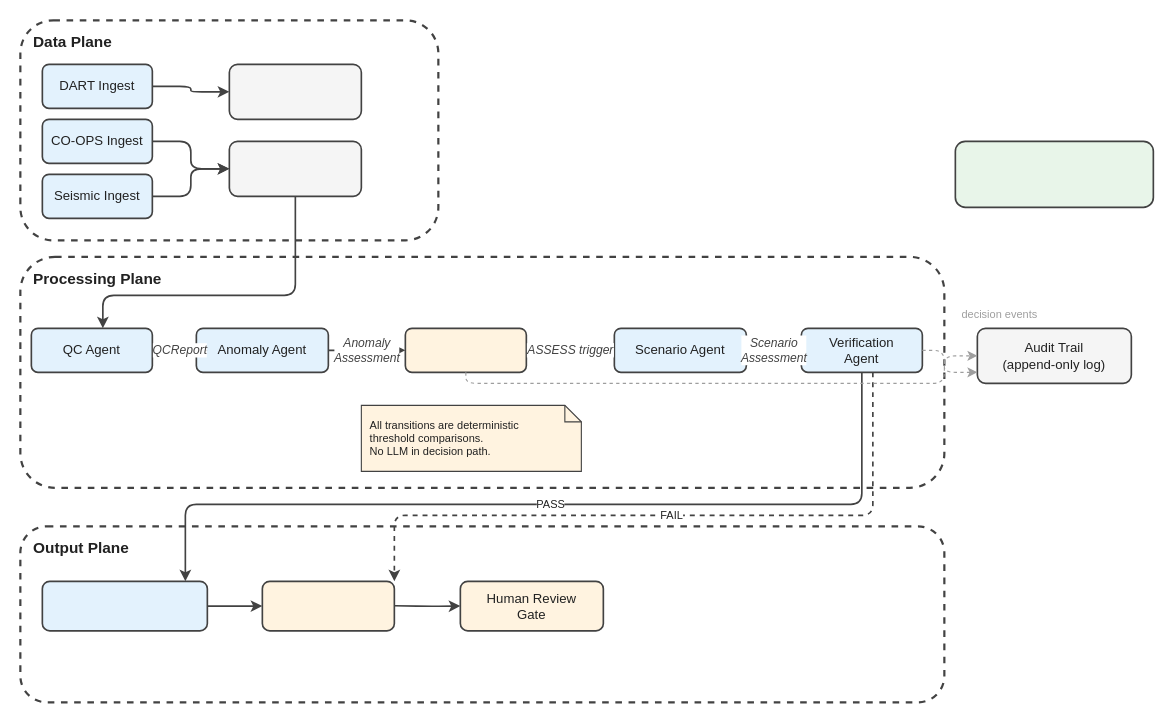
The diagram is 1173 pixels wide and 722 high, and some of its shapes have lost their labels. The shapes that lost their labels are listed below. From the top down, each one's centre as x and y in pixels, then its label:
At point 295,91: "Storage (TimescaleDB / in-memory)".
At point 295,168: "Message Bus (Kafka / in-memory)".
At point 1054,174: "Observability OpenTelemetry | Prometheus Grafana | Jaeger".
At point 465,350: "FSM Orchestrator".
At point 124,605: "Report Agent + Guardrail Scanner".
At point 328,605: "Abstain Node".
